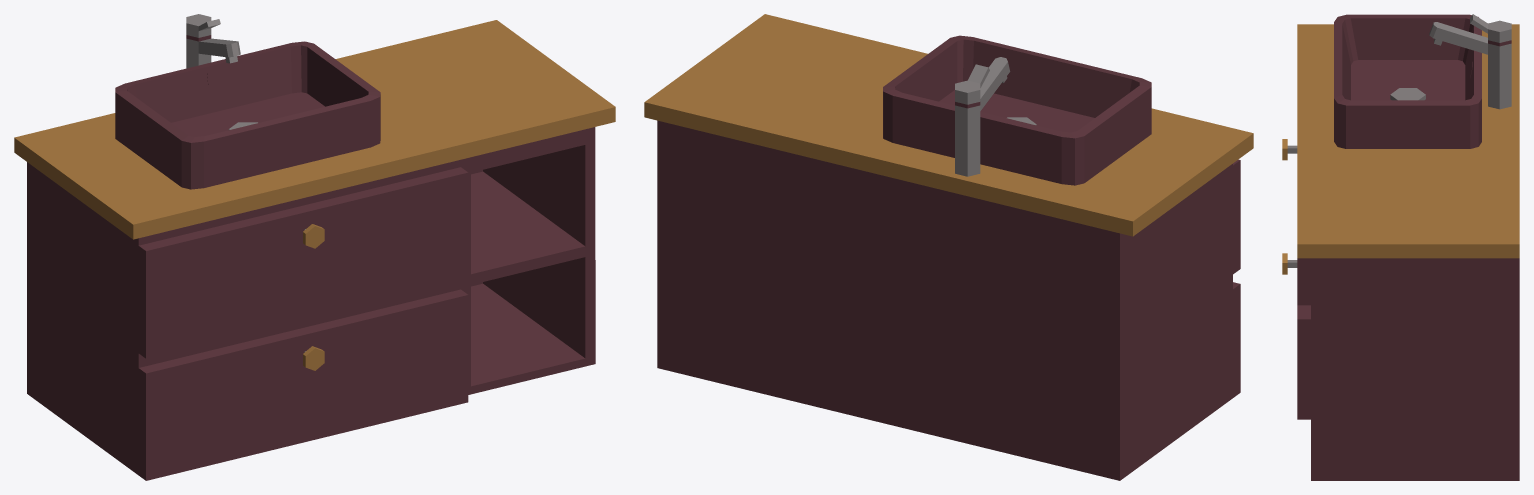
The model's file is cabinet-bathroom-long-sink.fbx.
The picture shows the model from 3 angles, left to right: view 1: azimuth 30°, elevation 25°; view 2: azimuth 150°, elevation 25°; view 3: azimuth 270°, elevation 25°; orthographic projection. The views are drawn at different scales.
Parts seen in each view (by area): view 1: cabinet-bathroom-long-sink; view 2: cabinet-bathroom-long-sink; view 3: cabinet-bathroom-long-sink.
Part boxes in pixels (x1=…): cabinet-bathroom-long-sink: x1=14, y1=14, x2=615, y2=480; cabinet-bathroom-long-sink: x1=644, y1=14, x2=1253, y2=480; cabinet-bathroom-long-sink: x1=1282, y1=14, x2=1519, y2=480.
Size of the model in its own units: 1.2 by 0.8361 by 0.5465.
